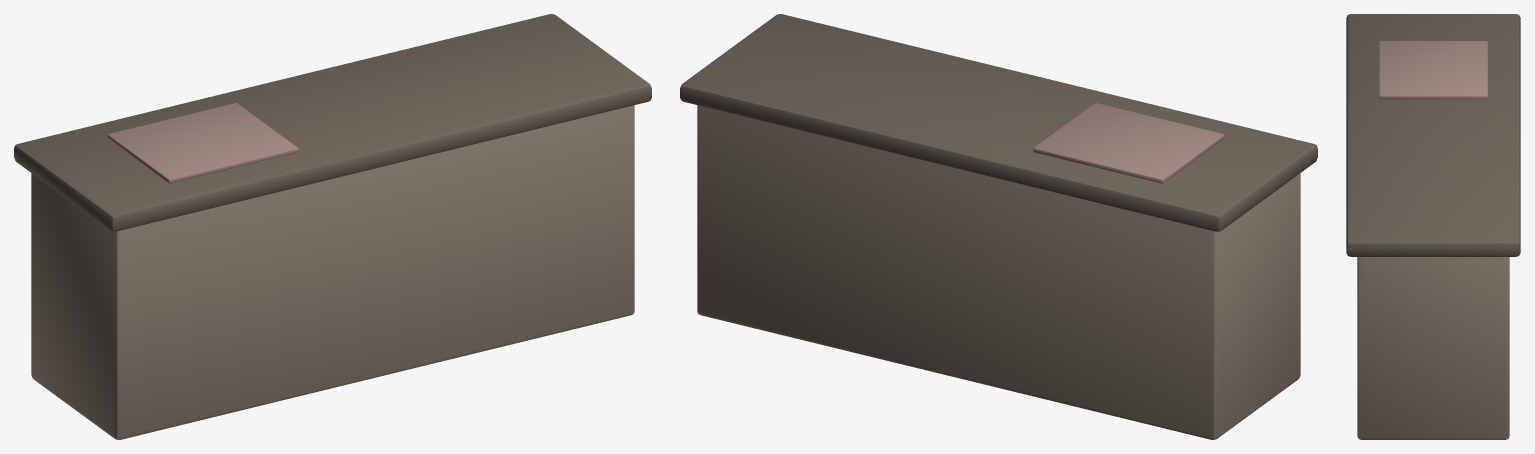
Rendered from counter.gltf.
3 views of the same model, side by side, from view 1: azimuth 30°, elevation 25°; view 2: azimuth 150°, elevation 25°; view 3: azimuth 270°, elevation 25° (orthographic). The views are drawn at different scales.
Parts seen in each view (by area): view 1: Body; view 2: Body; view 3: Body.
Boxes of the visible parts, left/top/right/bottom form: Body: left=14, top=14, right=651, bottom=439; Body: left=680, top=14, right=1317, bottom=439; Body: left=1346, top=14, right=1520, bottom=439.
Bounding box in the file's own units: 2.5 × 1.05 × 0.8.
